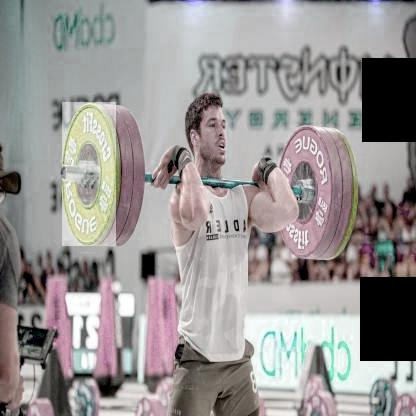barbell: (273, 125, 333, 260), (61, 104, 114, 248)
